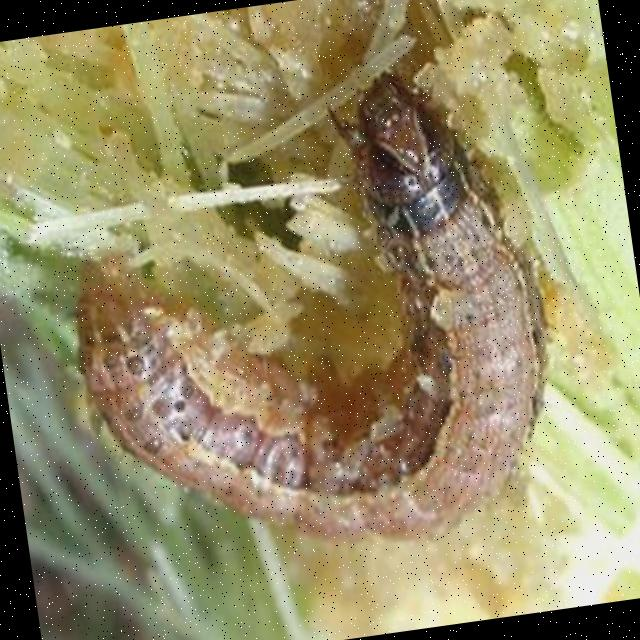worm: (43, 53, 579, 589)
